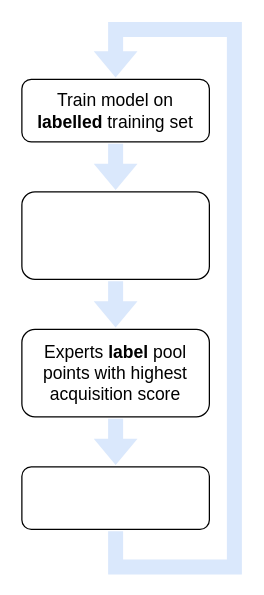
Image size: 264x595. Some labels were removed from this diagram. Here are the shapes that lost their labels. From the top down, the box of each, then its label:
(21, 191, 209, 279): Evaluate acquisition function on unlabelled pool set using the model
(21, 466, 209, 529): Add newly labelled points to training set
